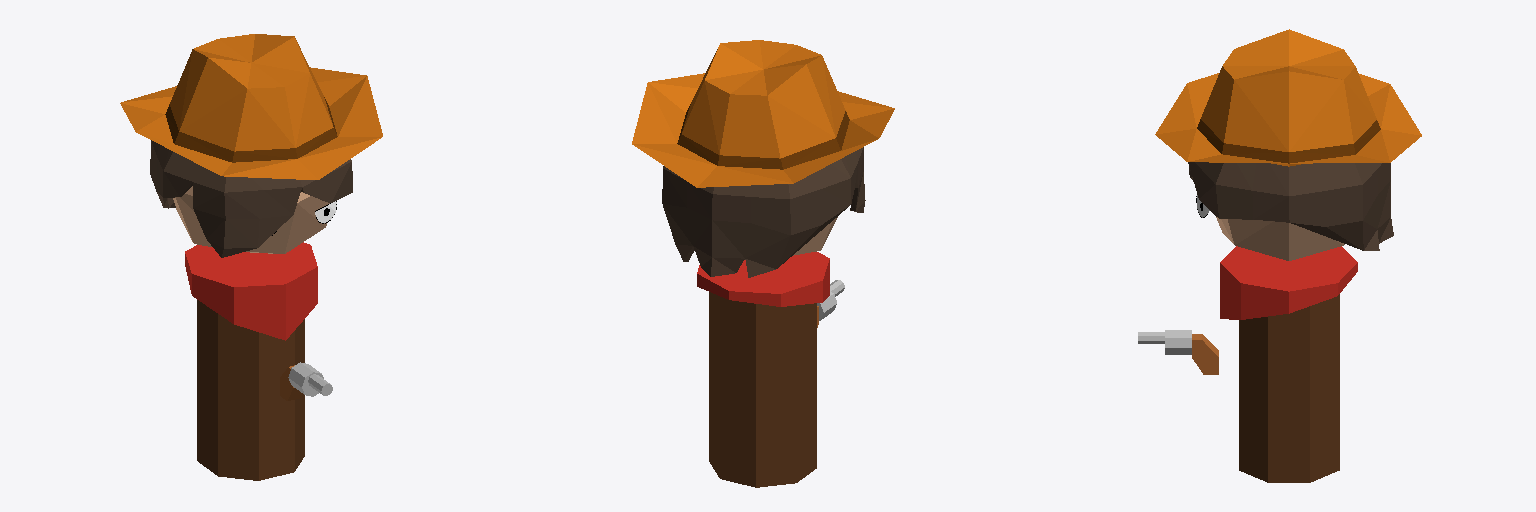
3 renders of one model, left to right at view 1: azimuth 30°, elevation 25°; view 2: azimuth 150°, elevation 25°; view 3: azimuth 270°, elevation 25°, orthographic.
Visible parts, largest first — view 1: 円柱.001, Hat; view 2: 円柱.001, Hat; view 3: 円柱.001, Hat.
Part boxes in pixels (x1,y1,x2,y2): 円柱.001: (150, 140, 352, 480); Hat: (120, 34, 382, 179); 円柱.001: (662, 147, 865, 487); Hat: (632, 40, 894, 187); 円柱.001: (1138, 162, 1393, 482); Hat: (1155, 29, 1421, 166).
Bounding box in the file's own units: 1.96 × 3.33 × 2.09.
Materials: 2 (2 with a texture image).